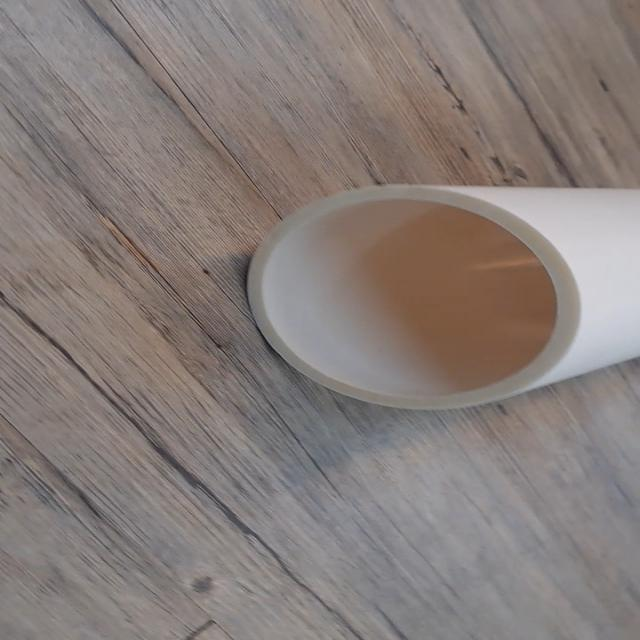CORAL: (237, 175, 640, 415)
